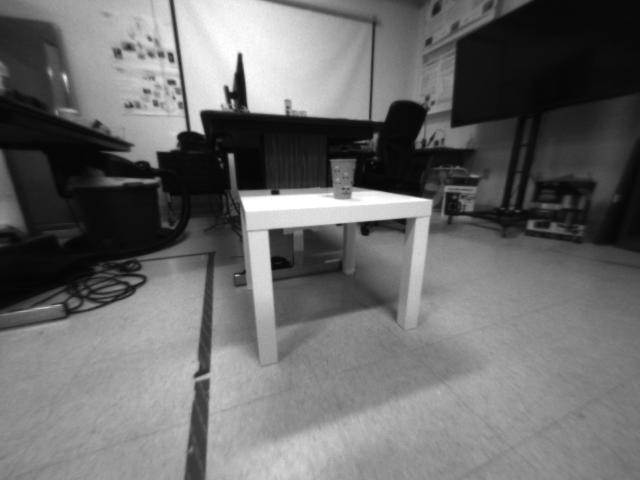coffee_cup: (328, 156, 358, 198)
